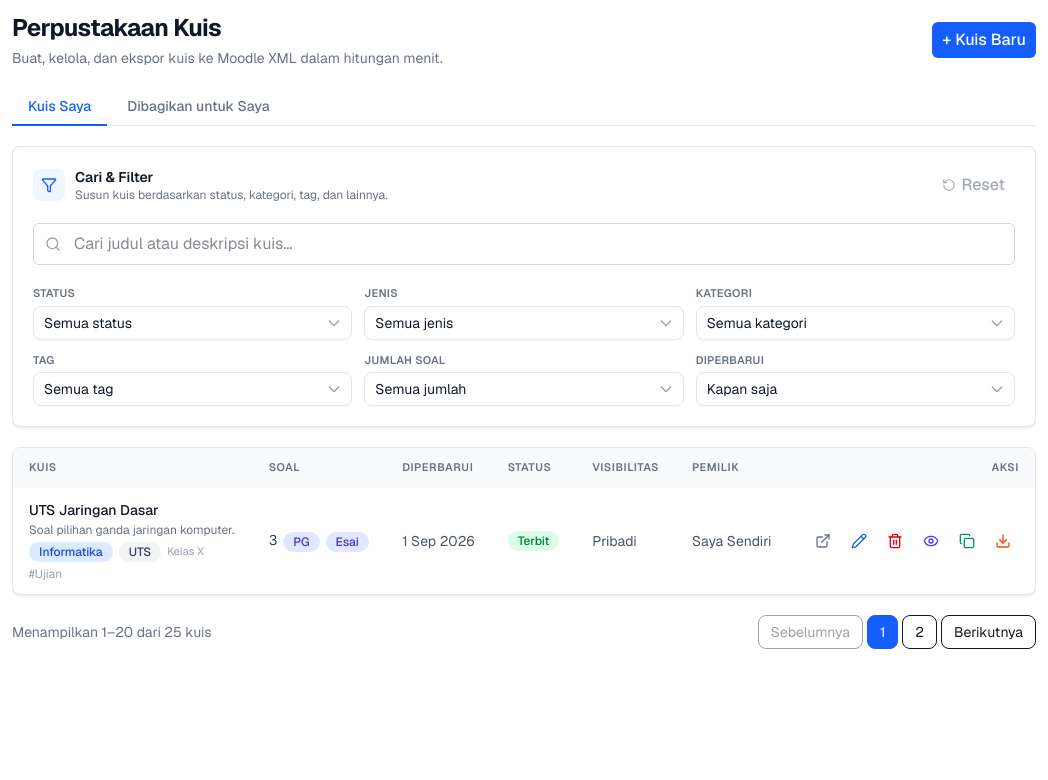
it: QuizLibrary › switches to the shared tab and treats quizzes as read-only
Check: the text "Menampilkan 1–20 dari 25 kuis" is shown, box top-left (12, 622), bottom-right (212, 642)
What coordinates should you click on to do the following:
click the button with test id "quiz-tab-shared"
I would click on:
 (198, 107)
Its box is top-left (111, 88), bottom-right (286, 126).
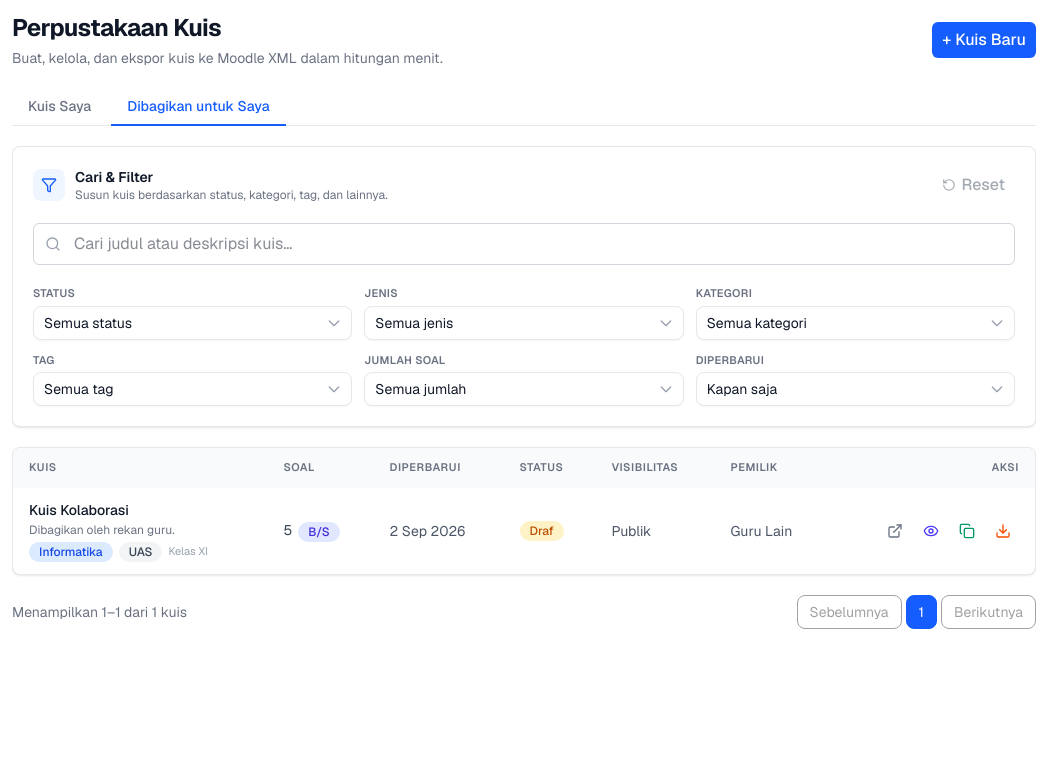
Check: the link "Kuis Kolaborasi" is shown, box top-left (29, 501), bottom-right (129, 519)
Check: the text "Guru Lain" is shown, box top-left (714, 488), bottom-right (828, 574)
